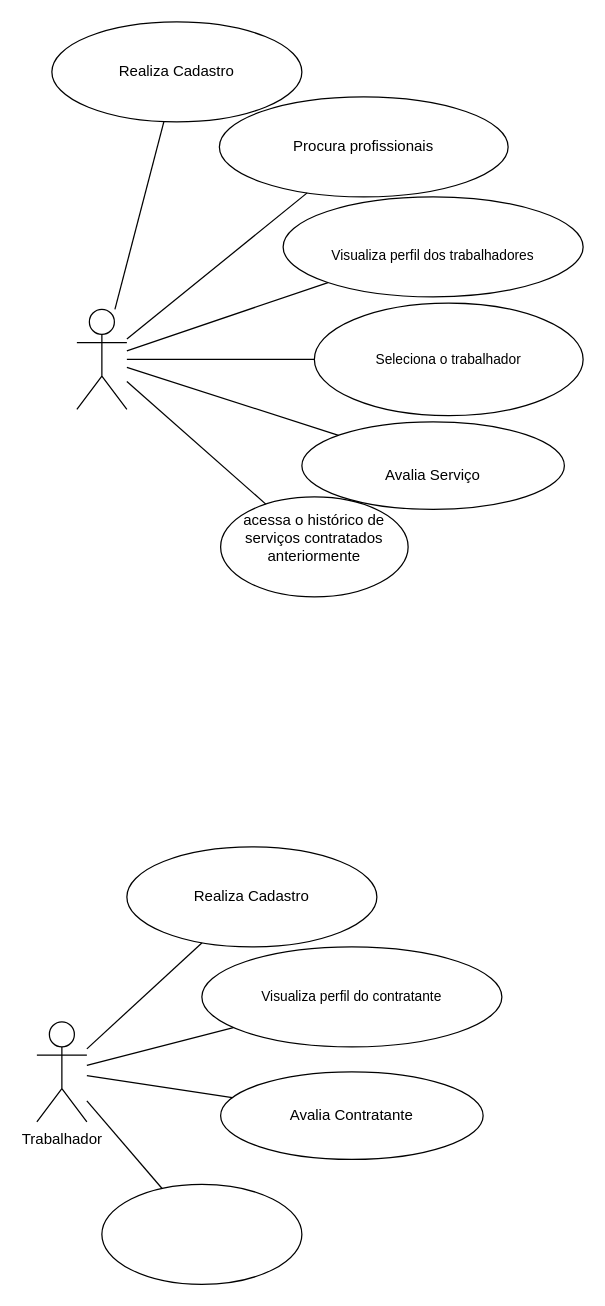
Image size: 605x1306. Some labels were removed from this diagram. The shapes that lost their labels are listed below. From the top down, each one's box as (x1, y1, x2, y2) in pixels, then its label:
(76, 308, 127, 409): Cliente
(101, 1183, 302, 1284): Acessa histórico de contratação
